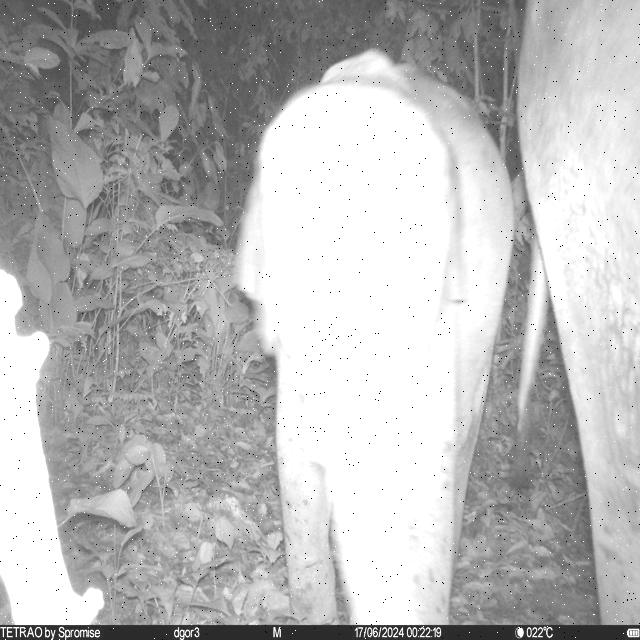calf: (234, 48, 518, 625)
elephant: (518, 1, 640, 625)
